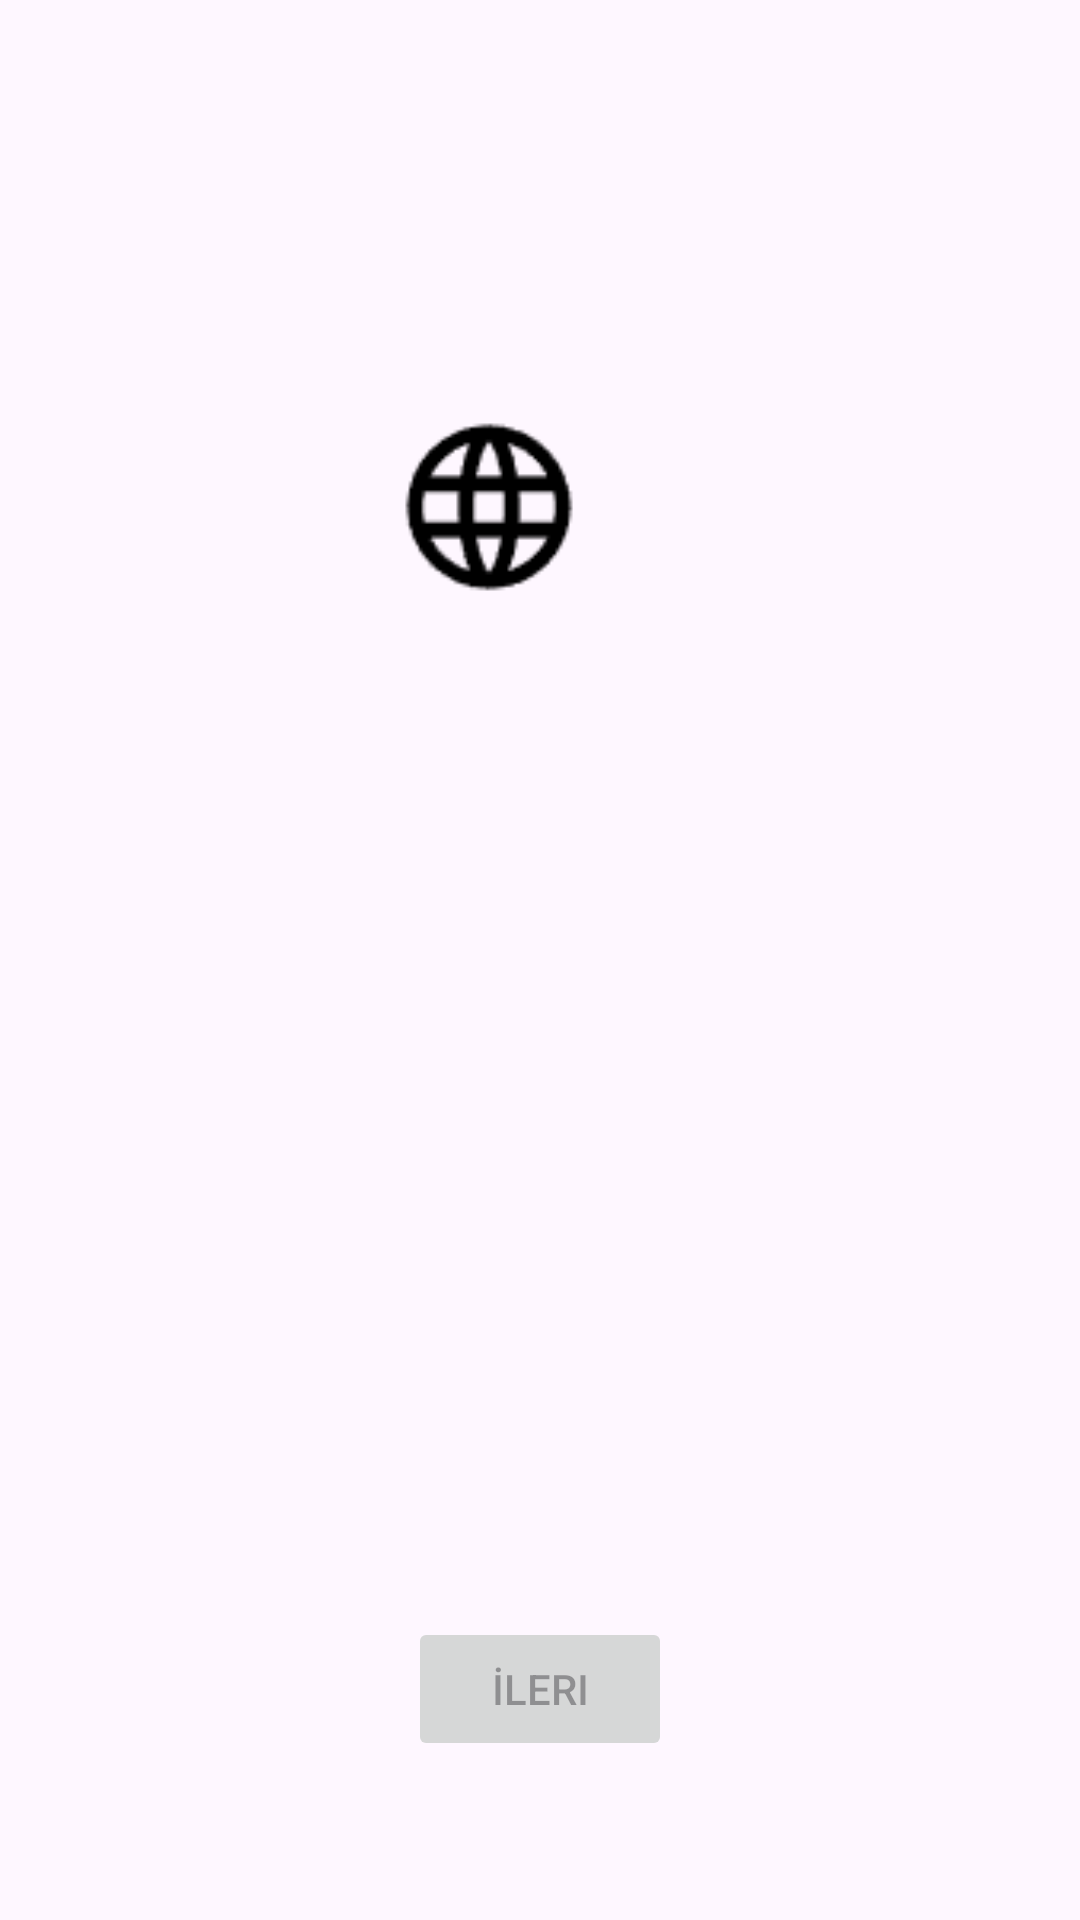

Locate icon controls on the screen. Image size 1080px×1920px, boxes as (x1, y1, x2, y2).
Dünya İkonu: (405, 423, 573, 591)
